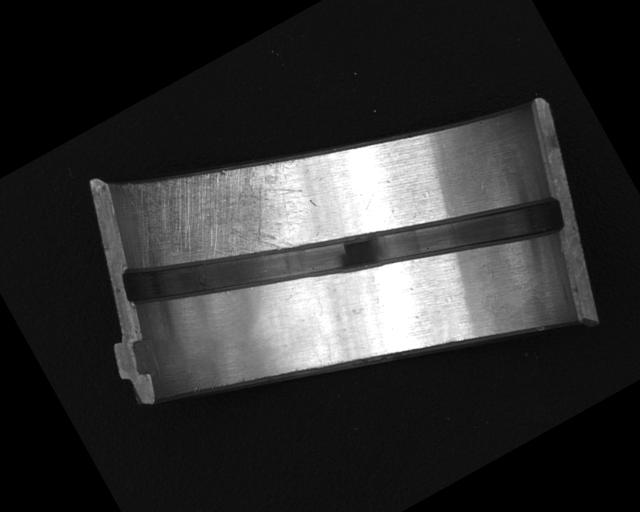gap: (115, 70, 572, 430)
scratch: (113, 114, 323, 312)
